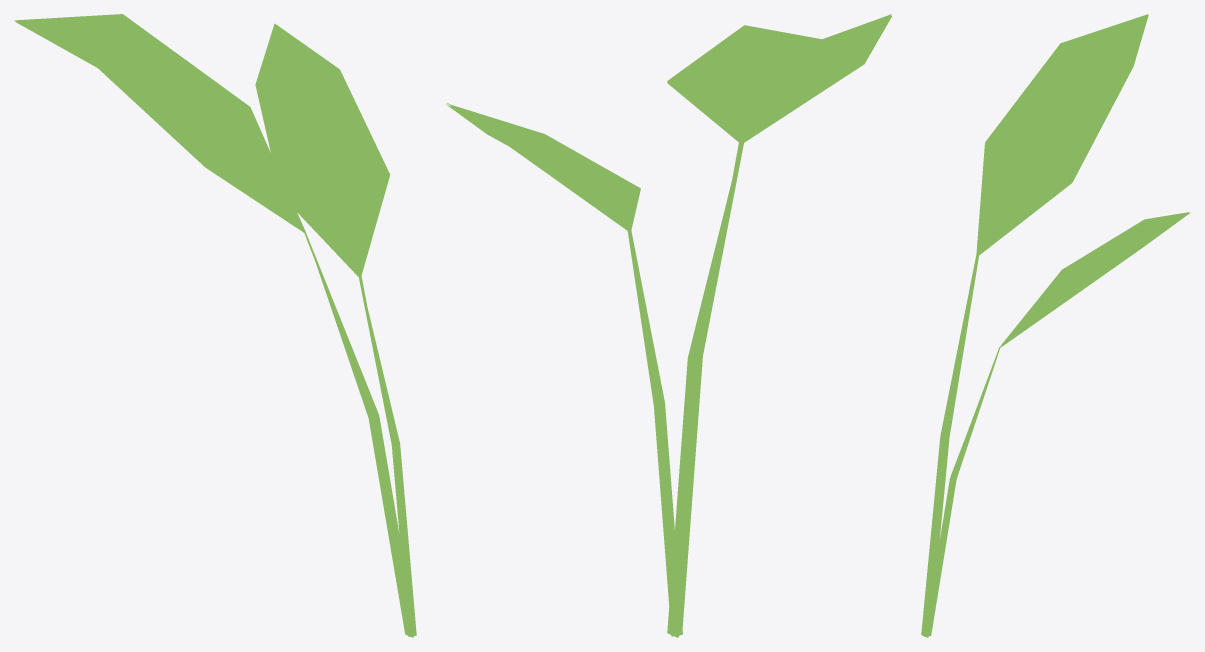
The model's file is Plant_j_TwoS_02.fbx.
3 renders of one model, left to right at view 1: azimuth 30°, elevation 25°; view 2: azimuth 150°, elevation 25°; view 3: azimuth 270°, elevation 25°, orthographic. The views are drawn at different scales.
Parts seen in each view (by area): view 1: Plant_j_TwoS_02; view 2: Plant_j_TwoS_02; view 3: Plant_j_TwoS_02.
Part boxes in pixels (box(x1,y1,x2,y2)): Plant_j_TwoS_02: box(14, 14, 416, 637); Plant_j_TwoS_02: box(446, 14, 891, 637); Plant_j_TwoS_02: box(921, 14, 1190, 637).
Bounding box in the file's own units: 0.3011 × 0.53 × 0.2549.
